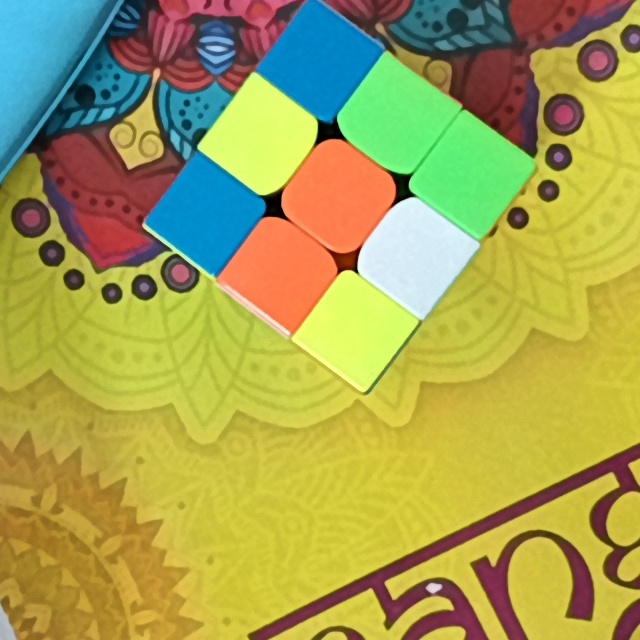tile: (437, 140, 507, 203), (305, 165, 375, 228), (228, 104, 292, 168), (364, 85, 430, 147), (383, 223, 450, 284), (248, 245, 315, 302), (176, 184, 238, 244), (287, 34, 347, 95), (325, 302, 388, 357)
